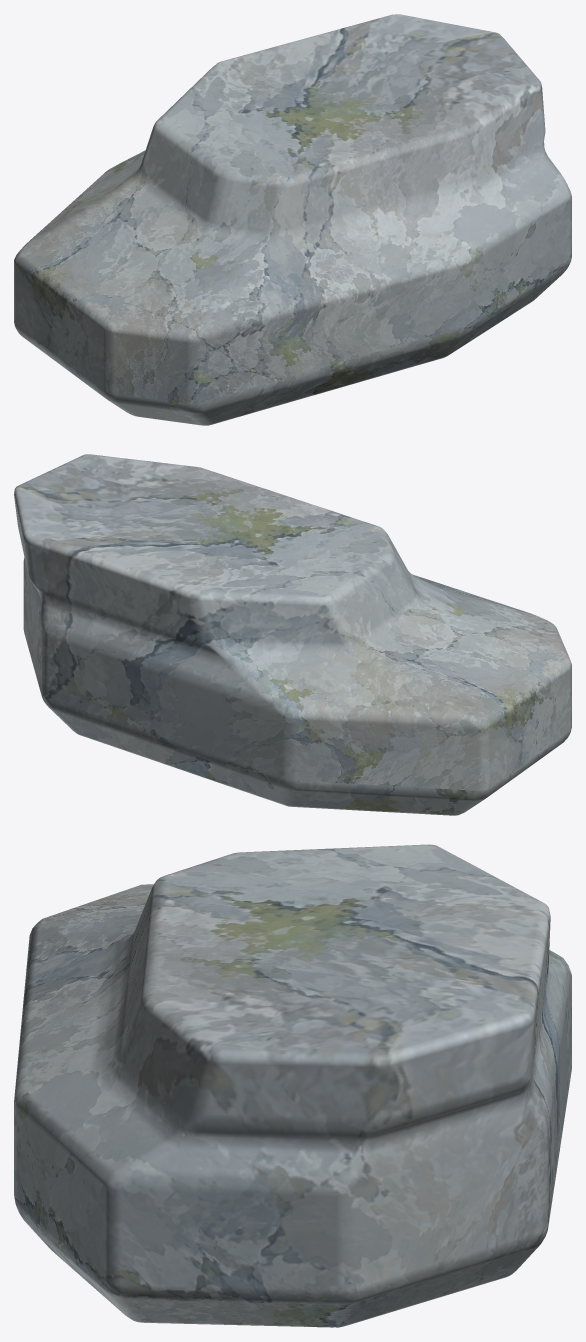
Rendered from SM_FracturedForestRock_05.fbx.
3 renders of one model, top to bottom at view 1: azimuth 30°, elevation 25°; view 2: azimuth 150°, elevation 25°; view 3: azimuth 270°, elevation 25°, orthographic. The views are drawn at different scales.
Parts seen in each view (by area): view 1: SM_FracturedForestRock_05; view 2: SM_FracturedForestRock_05; view 3: SM_FracturedForestRock_05.
Boxes of the visible parts, bbox=[...] form: SM_FracturedForestRock_05: bbox=[14, 14, 571, 425]; SM_FracturedForestRock_05: bbox=[14, 454, 571, 815]; SM_FracturedForestRock_05: bbox=[14, 844, 571, 1327].
Bounding box in the file's own units: 3.46 × 2.26 × 1.53.
